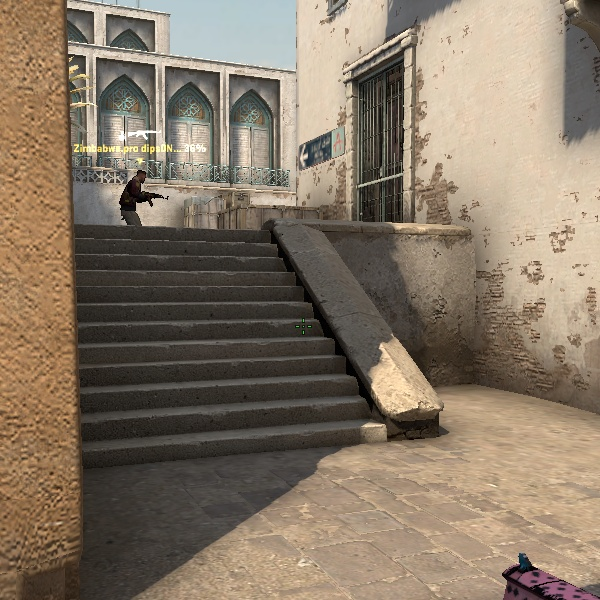t_body: (118, 169, 161, 229)
t_head: (136, 169, 147, 186)
